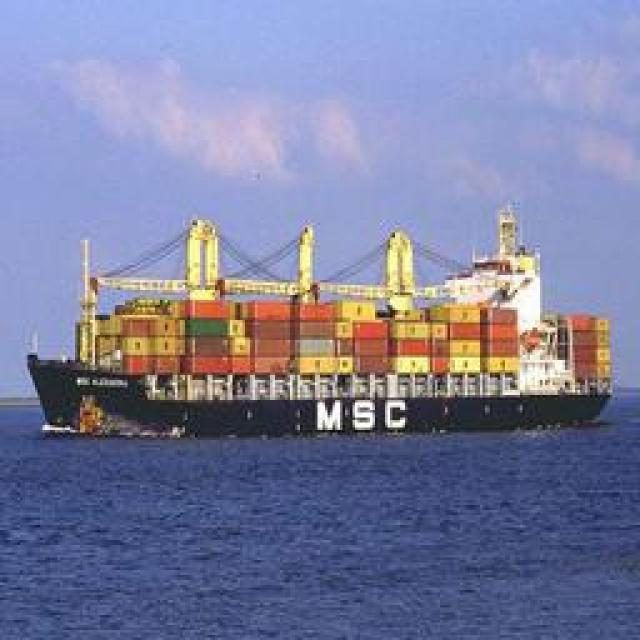ship2: (30, 209, 616, 440)
